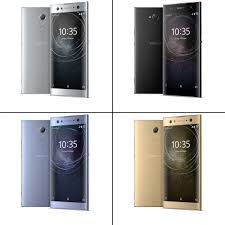sony: (47, 112, 90, 213), (160, 113, 203, 214), (48, 1, 91, 101), (160, 1, 203, 101)
